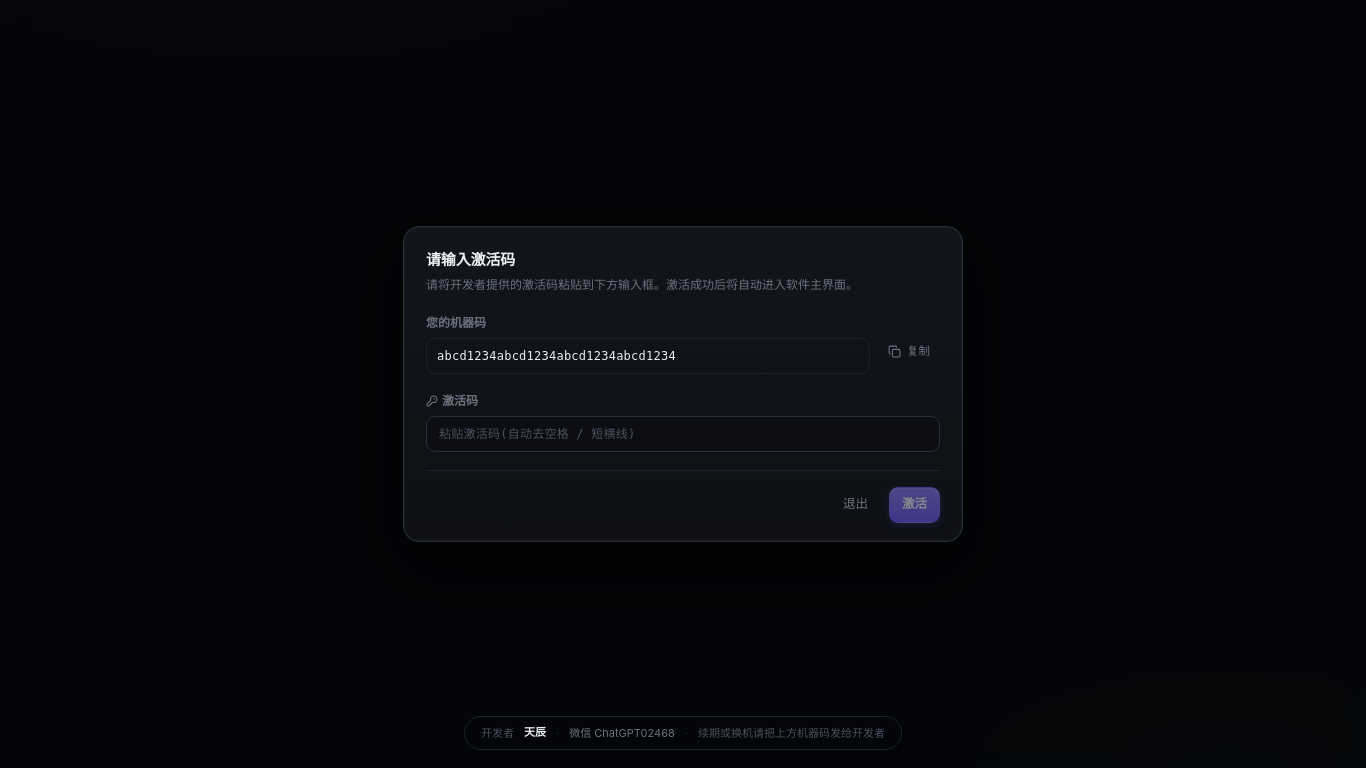
Test: 重新激活后完整加载账号、任务和设置
Expected: the button "激活" is shown, [889, 487, 940, 523]
Type "VALID-LICENSE-CODE" into the field labelled "激活码".
click(683, 434); type("VALID-LICENSE-CODE")  # box [426, 416, 940, 452]
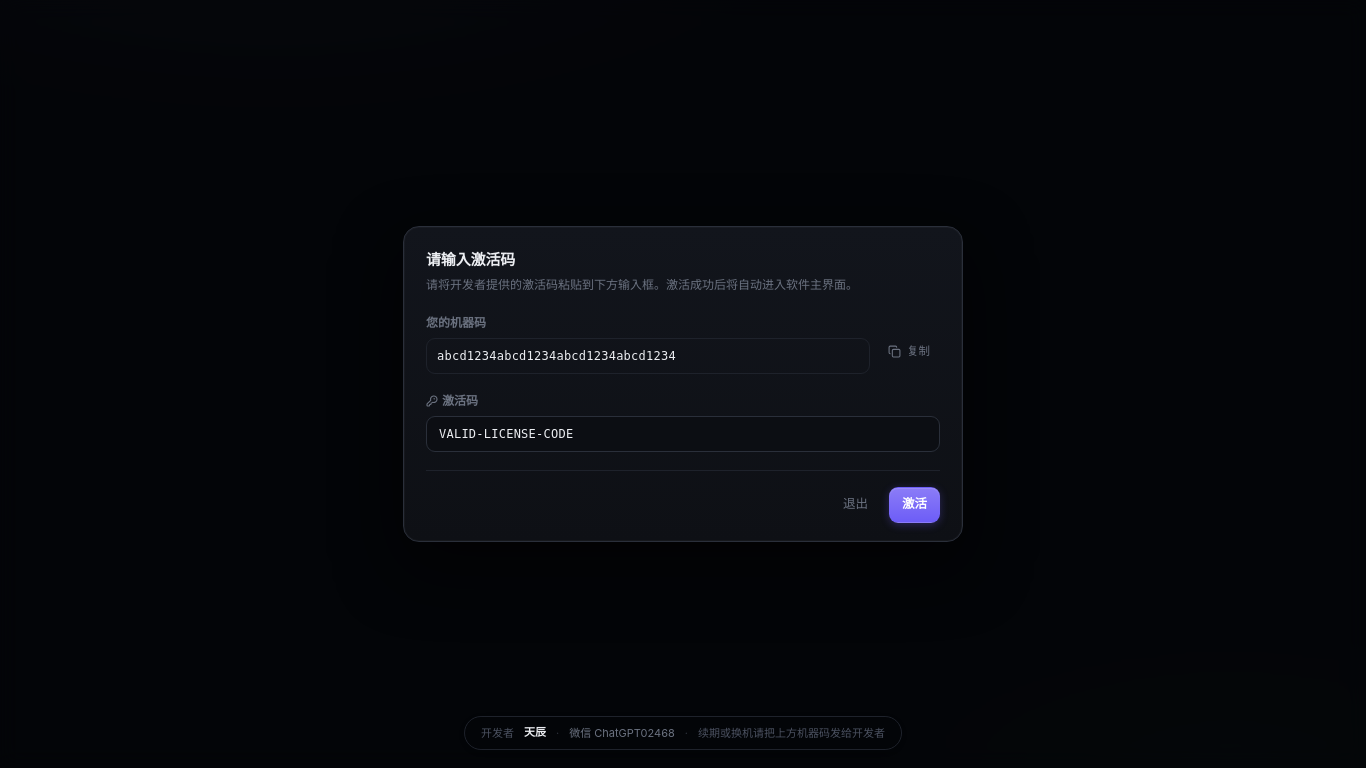
Click the button "激活".
click(914, 505)  # box [889, 487, 940, 523]
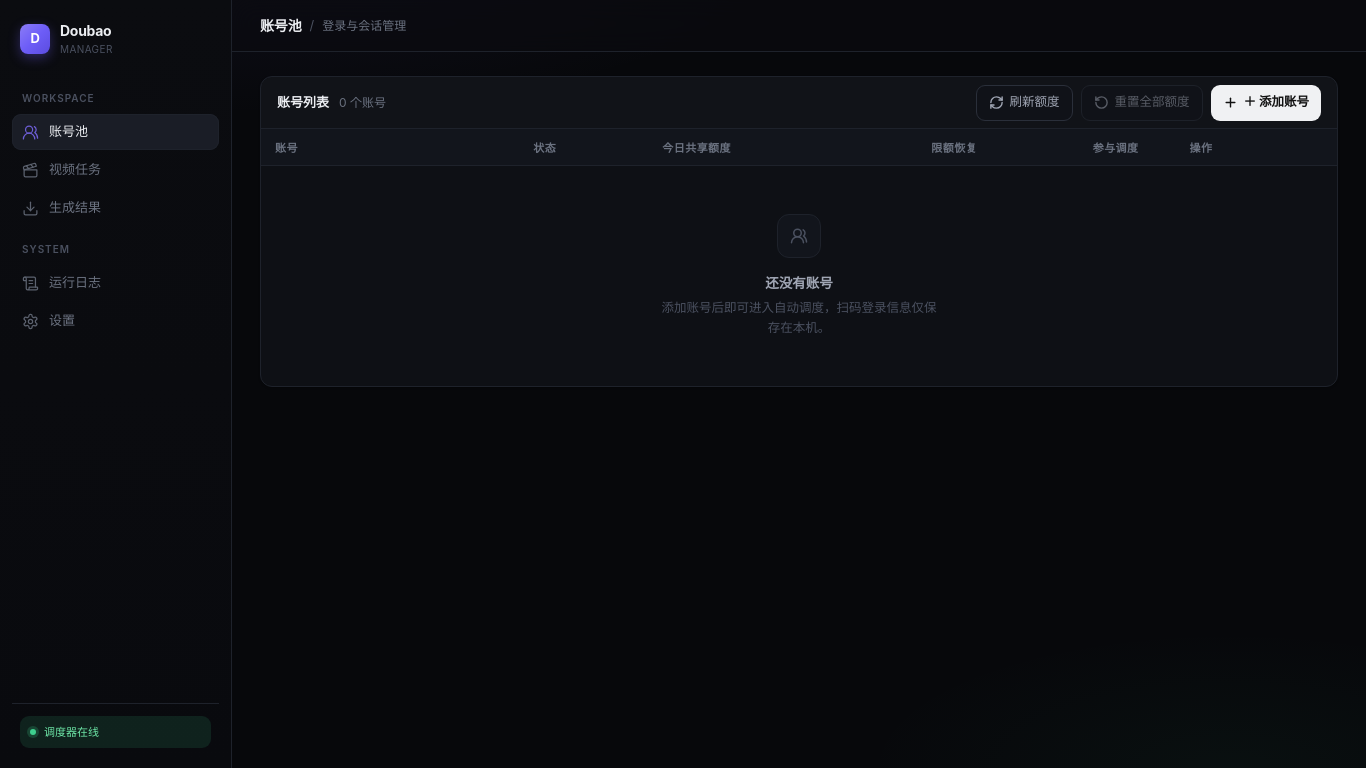
Expected: the button "账号池" is shown, [12, 114, 219, 150]
